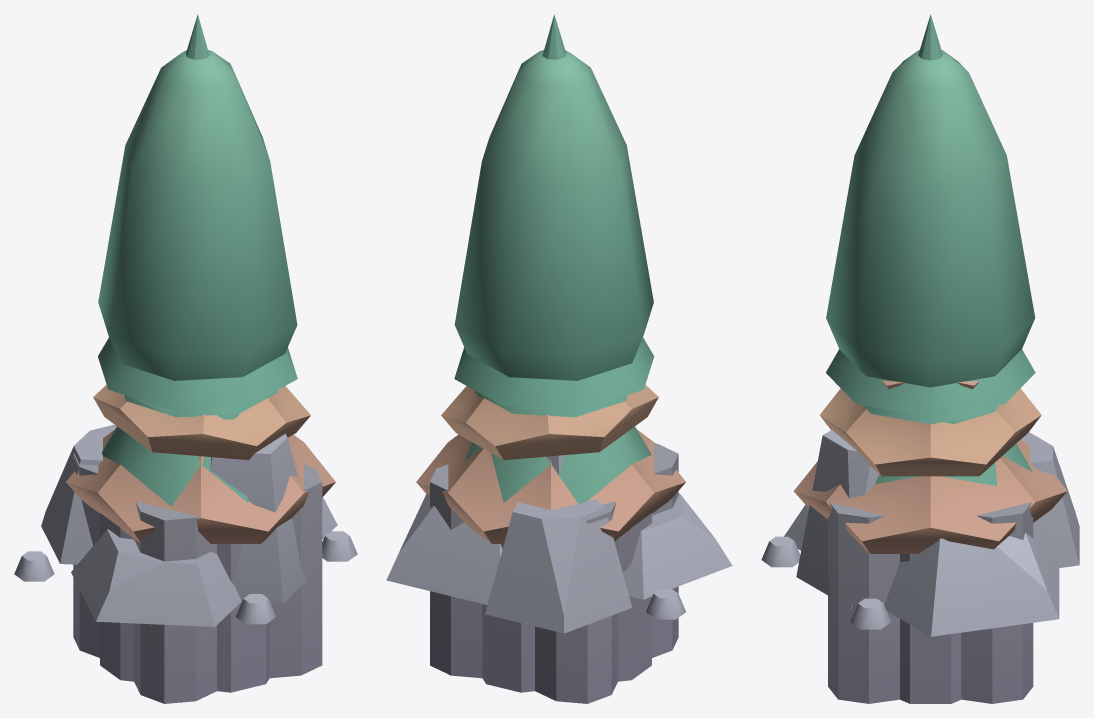
File: props.glb
3 views of the same model, side by side, from view 1: azimuth 30°, elevation 25°; view 2: azimuth 150°, elevation 25°; view 3: azimuth 270°, elevation 25° (orthographic).
Visible parts, largest first — view 1: tree-high-round, rock-large, rocks-high, pine-fall-crooked, tree-high, tree; view 2: tree-high-round, rock-large, rocks-high, pine-fall-crooked, tree-high, tree; view 3: tree-high-round, pine-fall-crooked, rock-large, rocks-high, tree-high, tree.
Part boxes in pixels (x1,y1,x2,y2): tree-high-round: (98,50,297,380); rock-large: (14,424,357,626); rocks-high: (73,453,322,703); pine-fall-crooked: (66,385,335,543); tree-high: (98,14,297,409); tree: (102,390,277,506); tree-high-round: (454,50,653,380); rock-large: (386,455,732,633); rocks-high: (430,443,678,703); pine-fall-crooked: (416,385,685,543); tree-high: (454,14,654,409); tree: (465,390,651,503); tree-high-round: (826,50,1035,387); pine-fall-crooked: (793,381,1067,553); rock-large: (761,430,1079,636); rocks-high: (828,502,1033,703); tree-high: (826,14,1035,416); tree: (863,405,1032,485).
Bounding box in the file's own units: 1.67 × 3.47 × 1.55.
